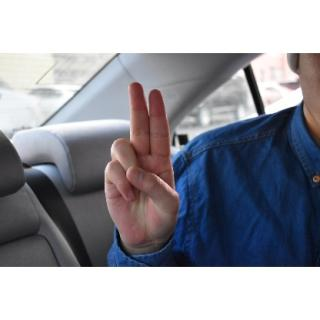TA: (100, 80, 184, 258)
